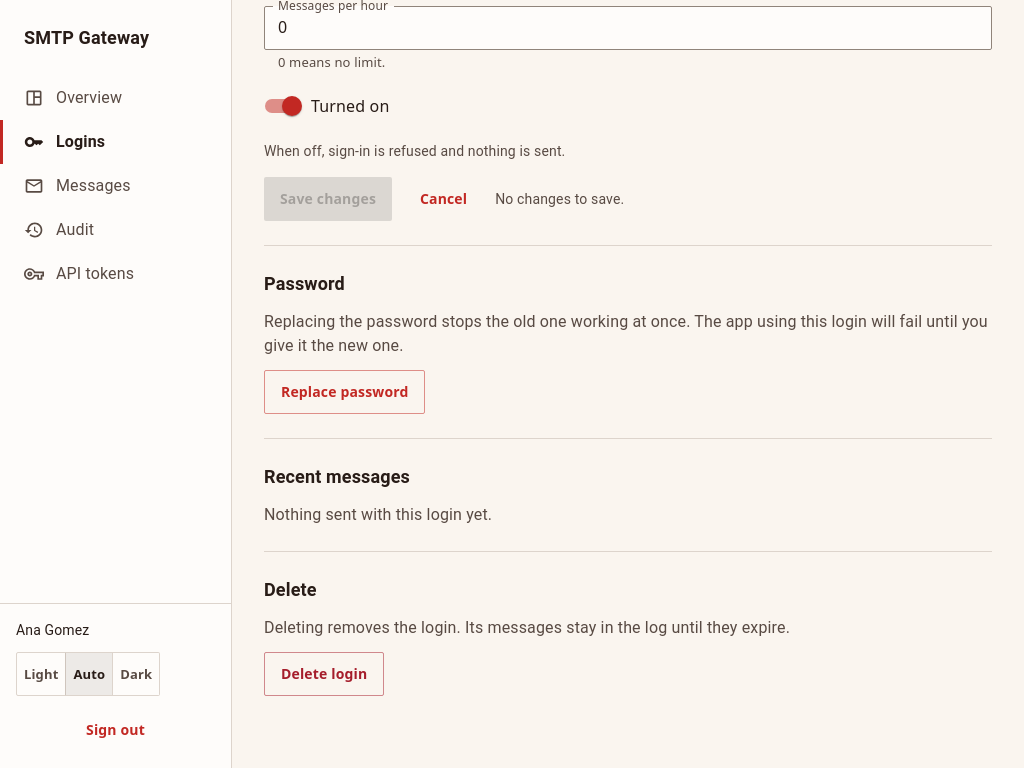
LoginDetail › asks before deleting, then navigates to the list
(page scrolled)
Step 1. Click the button "Delete login" → (324, 674), box [264,652,384,696]
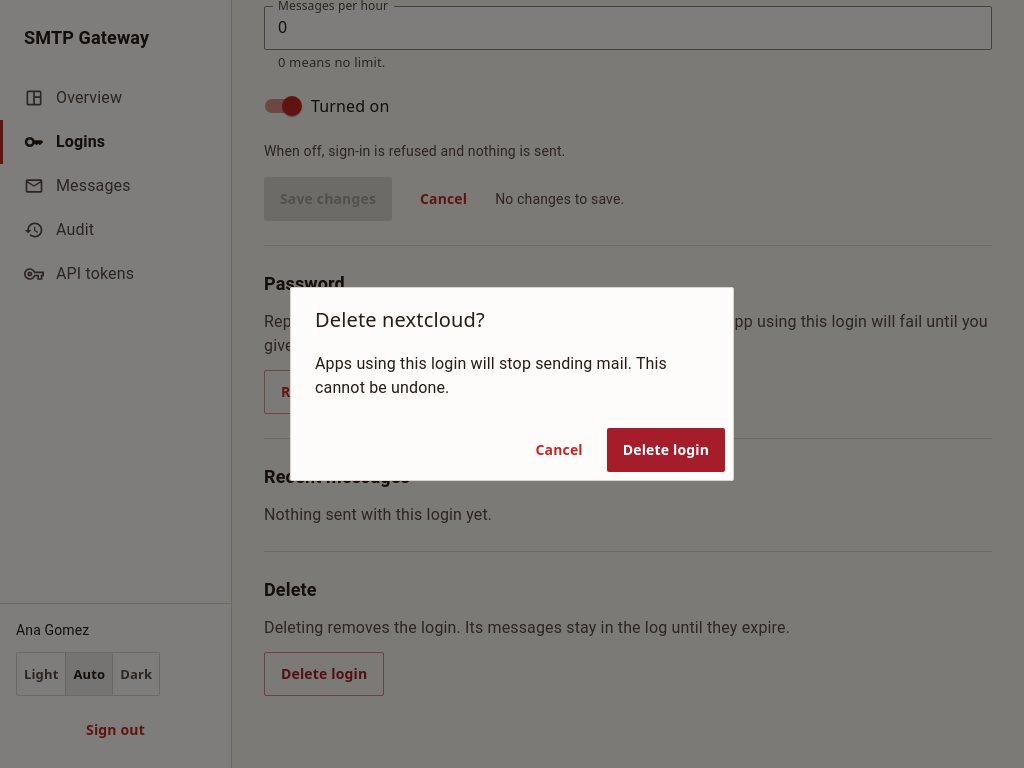
Expected: the heading "Delete nextcloud?" is shown, [315,306,485,333]
Step 2. Click the button "Delete login" → (666, 450), box [607,428,725,472]
(page scrolled)
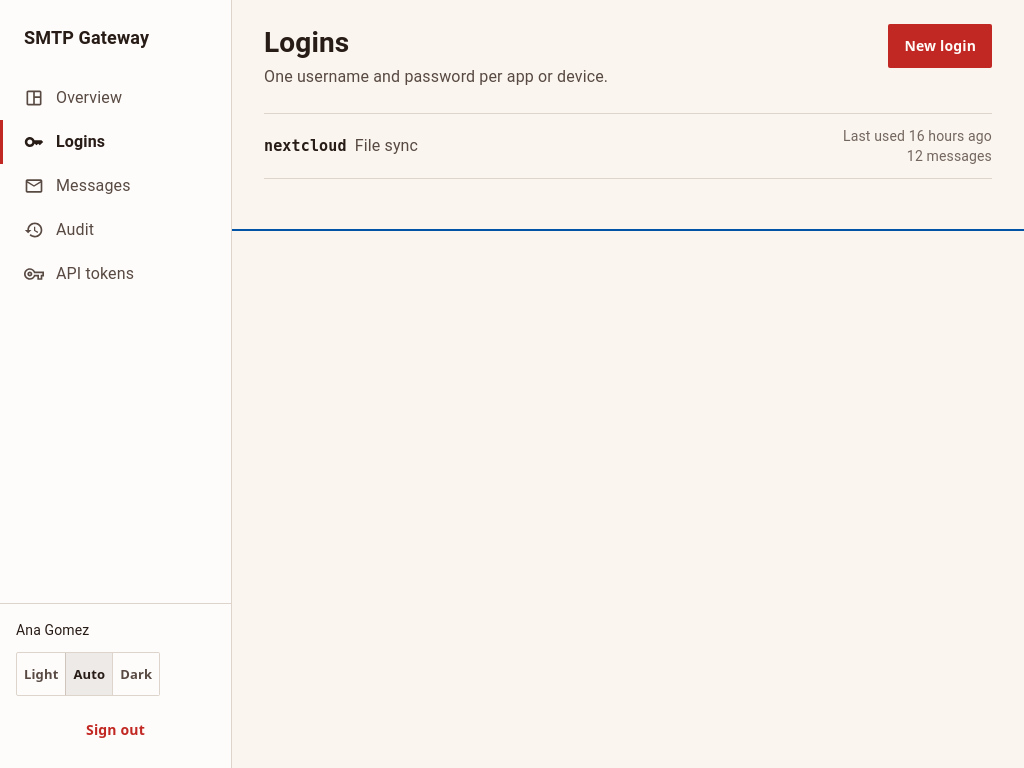
Expected: the heading "Logins" is shown, [264,26,349,59]
